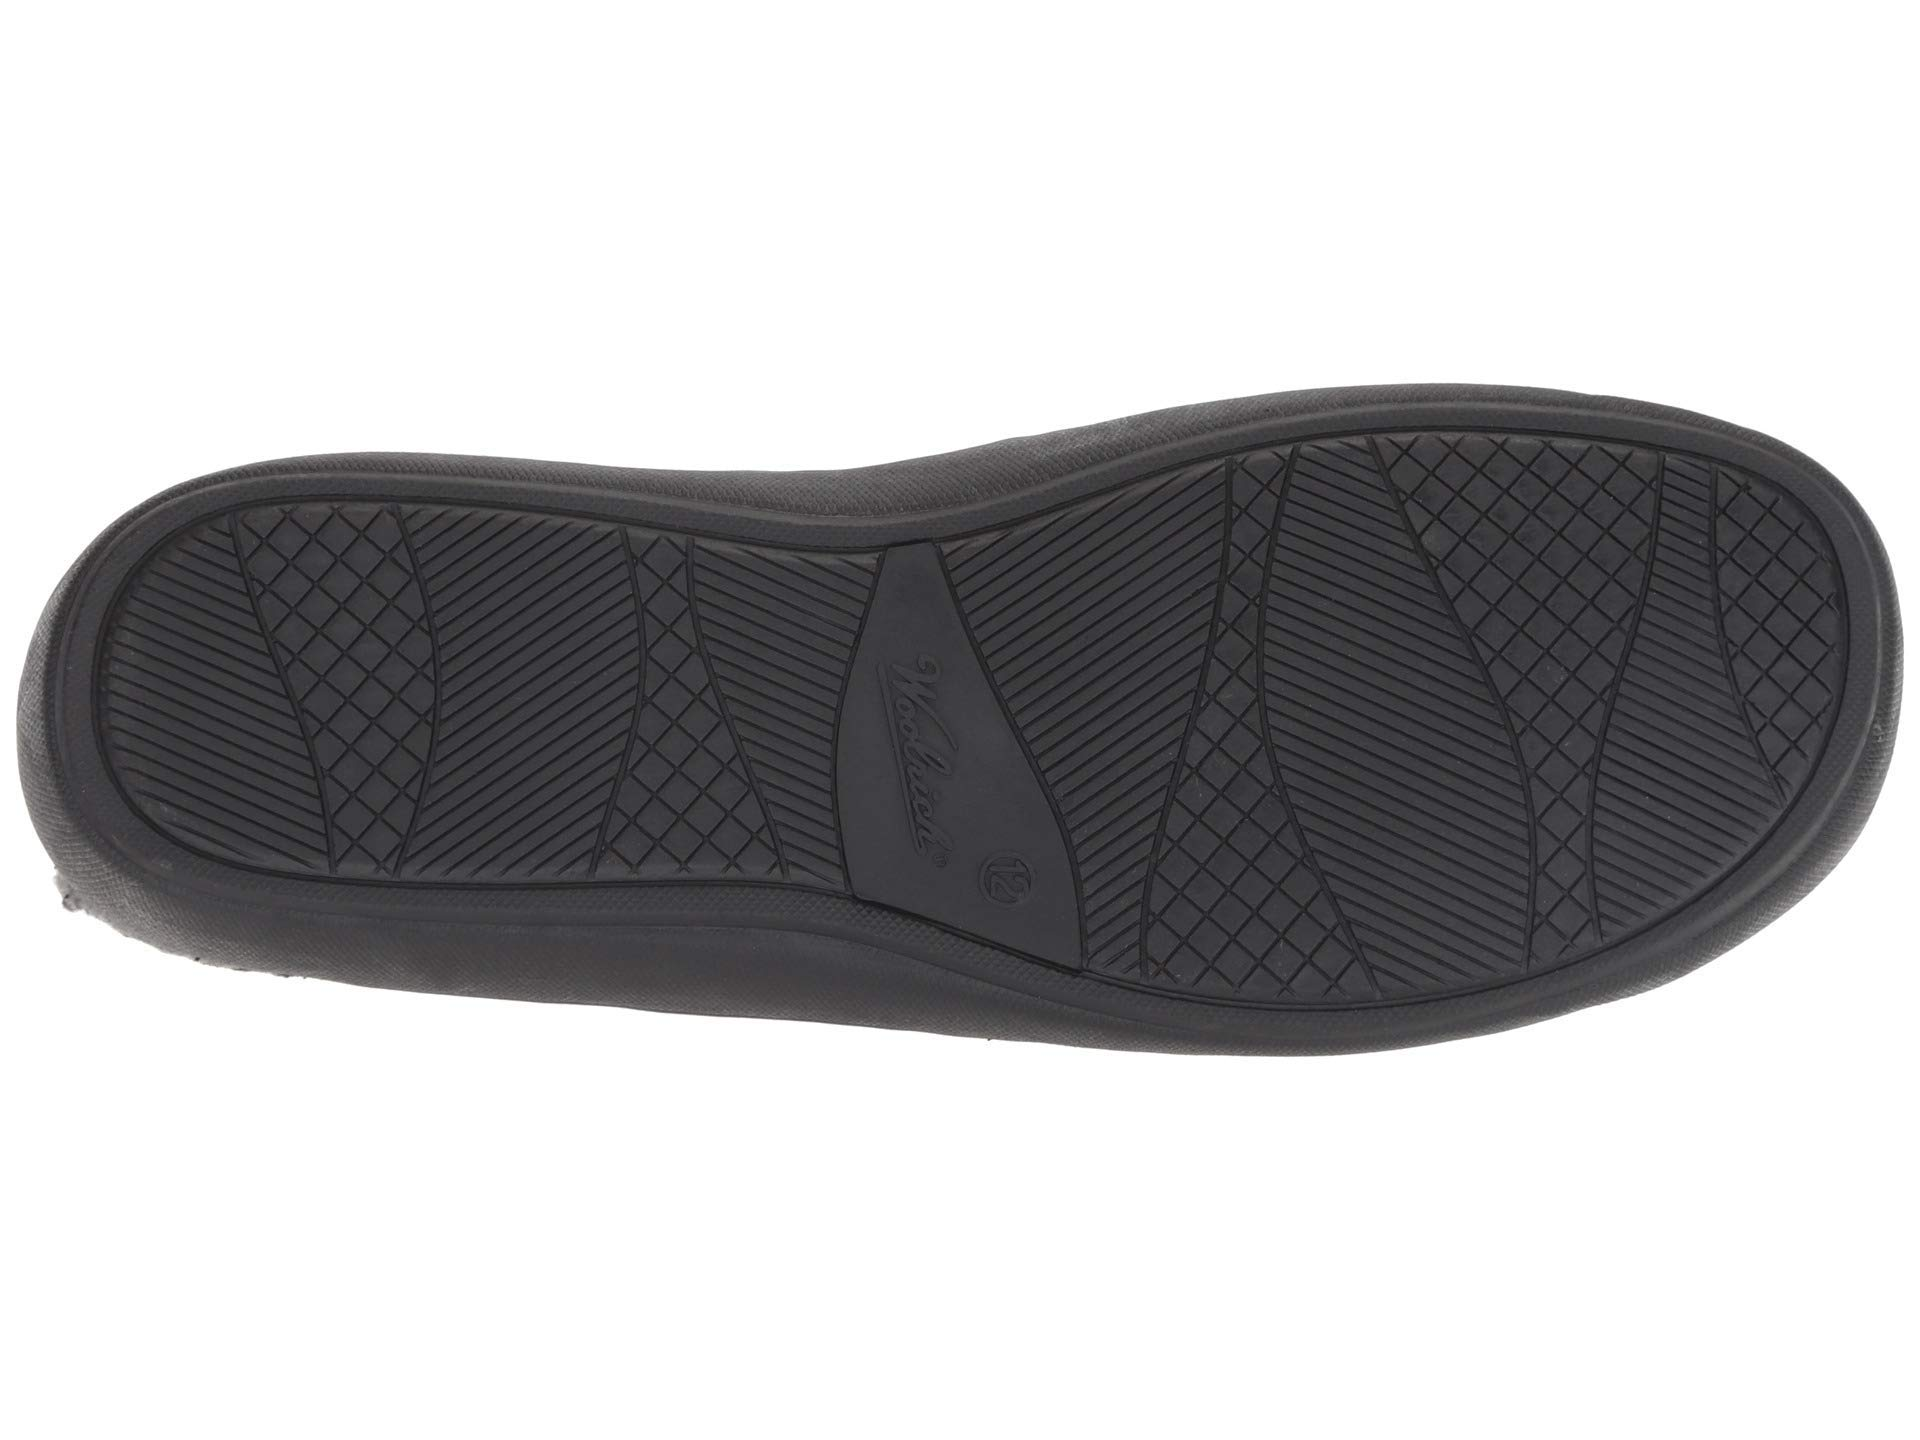circle: (860, 626, 972, 883), (984, 839, 1040, 929)
line: (621, 520, 835, 891), (1279, 532, 1460, 888), (446, 540, 603, 846), (860, 626, 972, 883)
quad: (621, 520, 835, 891), (1279, 532, 1460, 888), (249, 505, 420, 650)
text: (860, 626, 972, 883), (984, 839, 1040, 929)
triangle: (1279, 532, 1460, 888)
